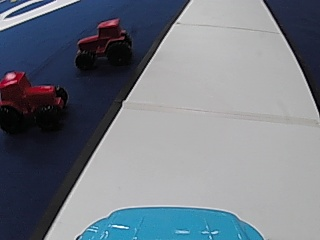tractor: (0, 67, 70, 133), (71, 16, 133, 70)
